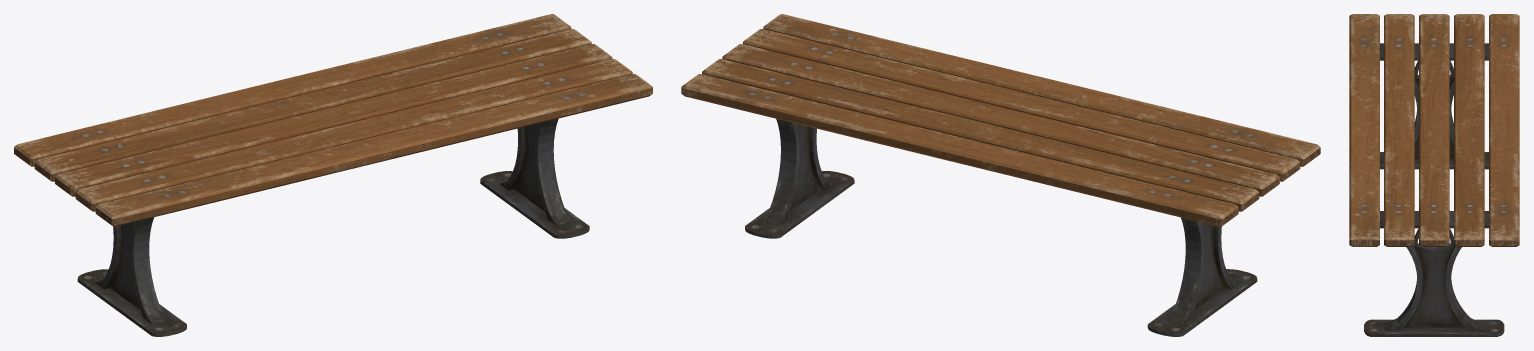
Rendered from M_cp_xiaoyuan_changdeng_01.fbx.
The picture shows the model from 3 angles, left to right: view 1: azimuth 30°, elevation 25°; view 2: azimuth 150°, elevation 25°; view 3: azimuth 270°, elevation 25°; orthographic projection. The views are drawn at different scales.
Parts seen in each view (by area): view 1: M_cp_xiaoyuan_changdeng_01.mo; view 2: M_cp_xiaoyuan_changdeng_01.mo; view 3: M_cp_xiaoyuan_changdeng_01.mo.
Boxes of the visible parts, x1,y1,x2,y2 form: M_cp_xiaoyuan_changdeng_01.mo: [14, 14, 652, 336]; M_cp_xiaoyuan_changdeng_01.mo: [681, 14, 1320, 336]; M_cp_xiaoyuan_changdeng_01.mo: [1349, 14, 1519, 336].
Bounding box in the file's own units: 213 × 52.89 × 68.06.
